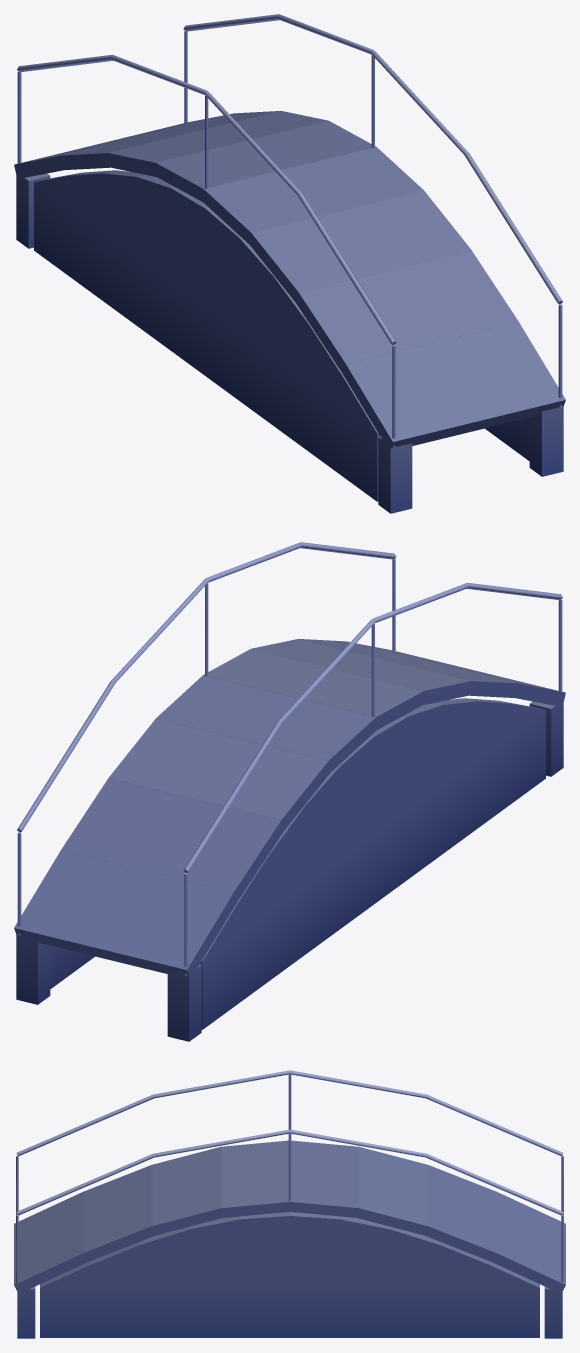
The model's file is arch.bridge.glb.
3 views of the same model, one above another, from view 1: azimuth 30°, elevation 25°; view 2: azimuth 150°, elevation 25°; view 3: azimuth 270°, elevation 25° (orthographic). The views are drawn at different scales.
Parts seen in each view (by area): view 1: kit_bridge_deck, kit_bridge_supports, kit_bridge_rail; view 2: kit_bridge_deck, kit_bridge_supports, kit_bridge_rail; view 3: kit_bridge_supports, kit_bridge_deck, kit_bridge_rail.
Boxes of the visible parts, x1,y1,x2,y2 form: kit_bridge_deck: [14, 111, 565, 451]; kit_bridge_supports: [16, 170, 563, 513]; kit_bridge_rail: [17, 14, 562, 447]; kit_bridge_deck: [14, 639, 565, 978]; kit_bridge_supports: [16, 698, 563, 1041]; kit_bridge_rail: [17, 542, 562, 975]; kit_bridge_supports: [17, 1212, 562, 1338]; kit_bridge_deck: [14, 1140, 565, 1293]; kit_bridge_rail: [16, 1070, 563, 1289].
Bounding box in the file's own units: 1.6 × 2.53 × 6.07.
